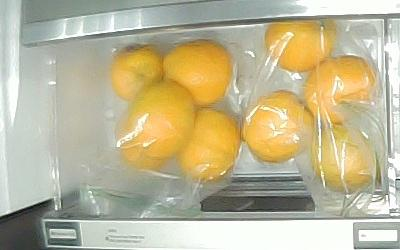orange_vinyl: (130, 79, 196, 158), (304, 55, 379, 124), (242, 90, 313, 162), (163, 38, 232, 107), (177, 108, 242, 181), (311, 124, 376, 193), (265, 19, 338, 72), (116, 106, 169, 171), (112, 44, 163, 101)
